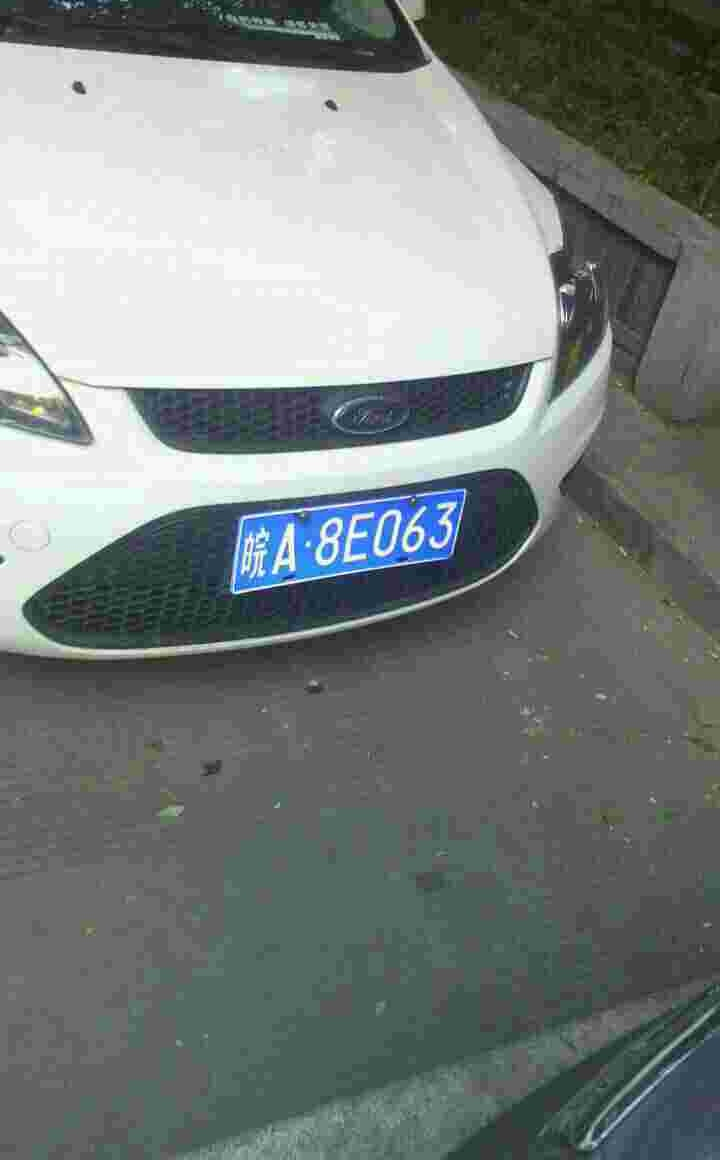license_plate: (233, 490, 461, 595)
